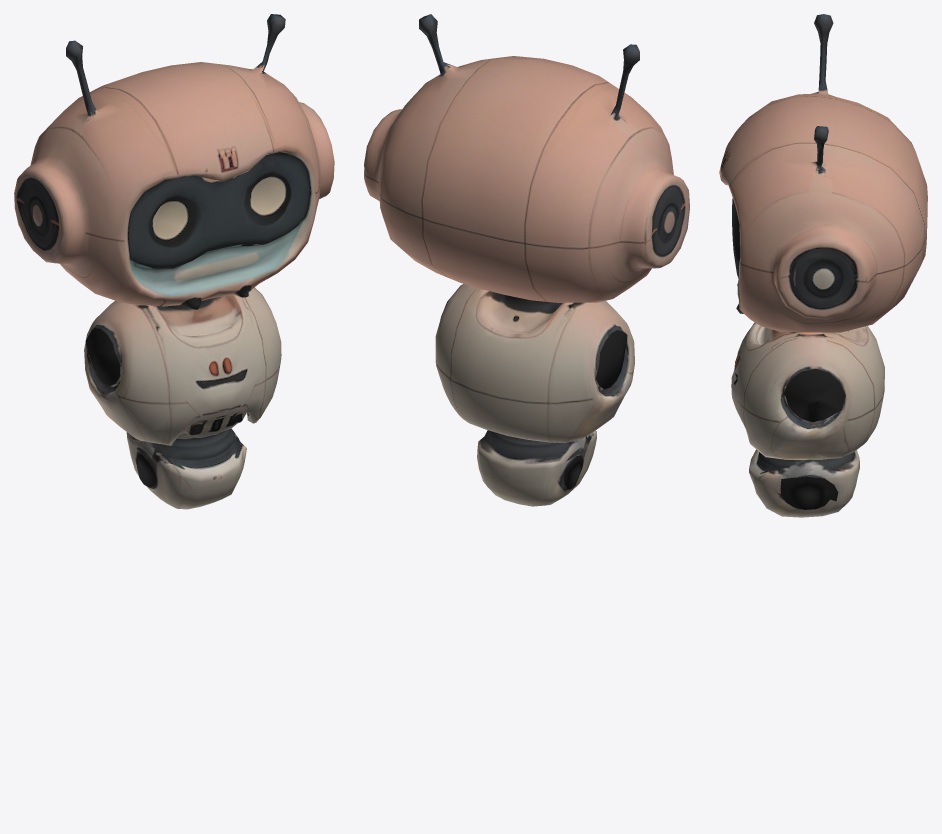
Rendered from Robot.glb.
The picture shows the model from 3 angles, left to right: view 1: azimuth 30°, elevation 25°; view 2: azimuth 150°, elevation 25°; view 3: azimuth 270°, elevation 25°; orthographic projection. The views are drawn at different scales.
Visible parts, largest first — view 1: Fbx; view 2: Fbx; view 3: Fbx.
Boxes of the visible parts, x1,y1,x2,y2 form: Fbx: [14, 14, 334, 509]; Fbx: [364, 14, 689, 506]; Fbx: [719, 14, 927, 517].
Bounding box in the file's own units: 0.7718 × 1.97 × 0.528.
3 materials, 1 textured.
